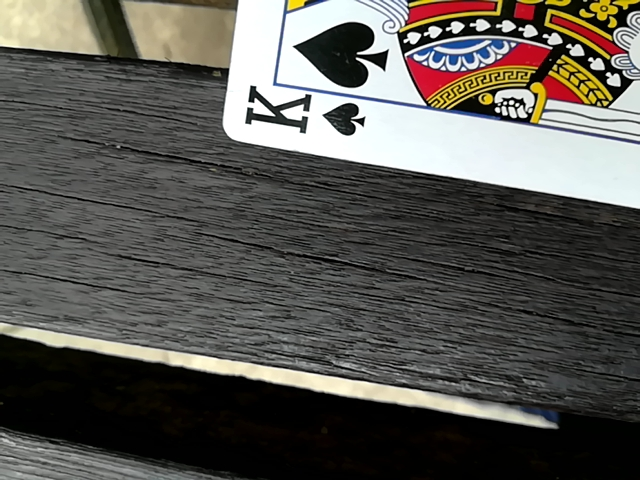ht k: (216, 1, 640, 235)
